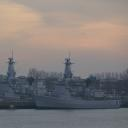Fragata: (34, 60, 122, 113)
